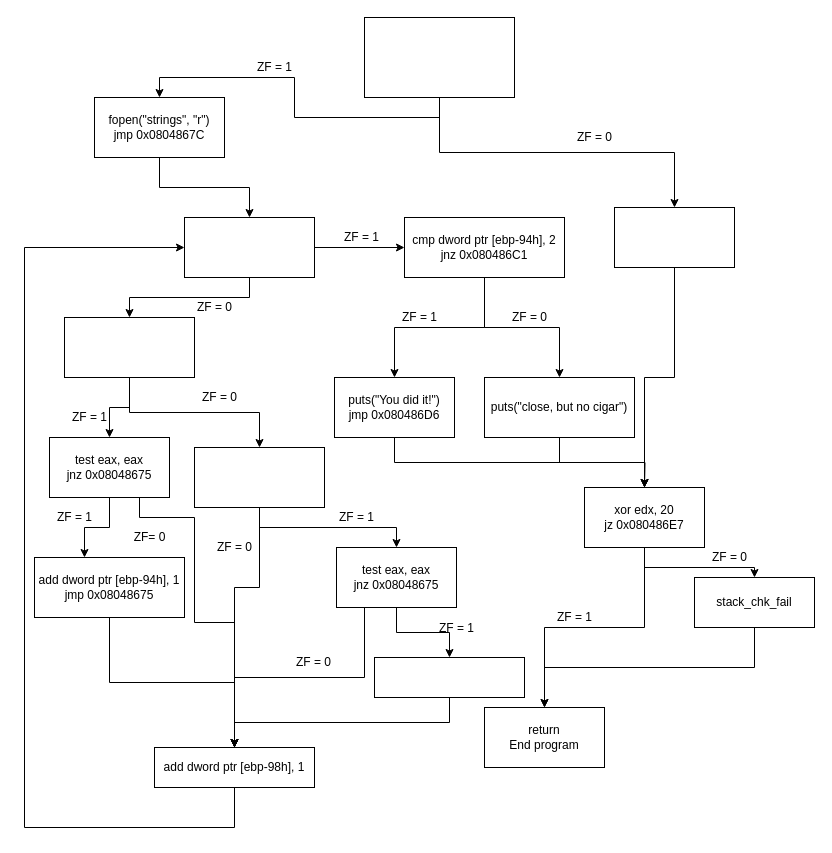
Image size: 832x853. Some labels were removed from this diagram. The shapes that lost their labels are listed below. From the top down, each one's centre as x and y in pixels, then its label:
point 439,57: cmp dword ptr [eax], 3 jz 0x0804859B
point 249,247: test eax, eax jnz 0x080485CF
point 674,237: puts("Try again....")
point 129,347: cmp eax, [ebp-98h] jnz 0x08048623
point 259,477: cmp eax, [epb-98h] jnz 0x08048675
point 449,677: add dword ptr [ebp-94h], 1
